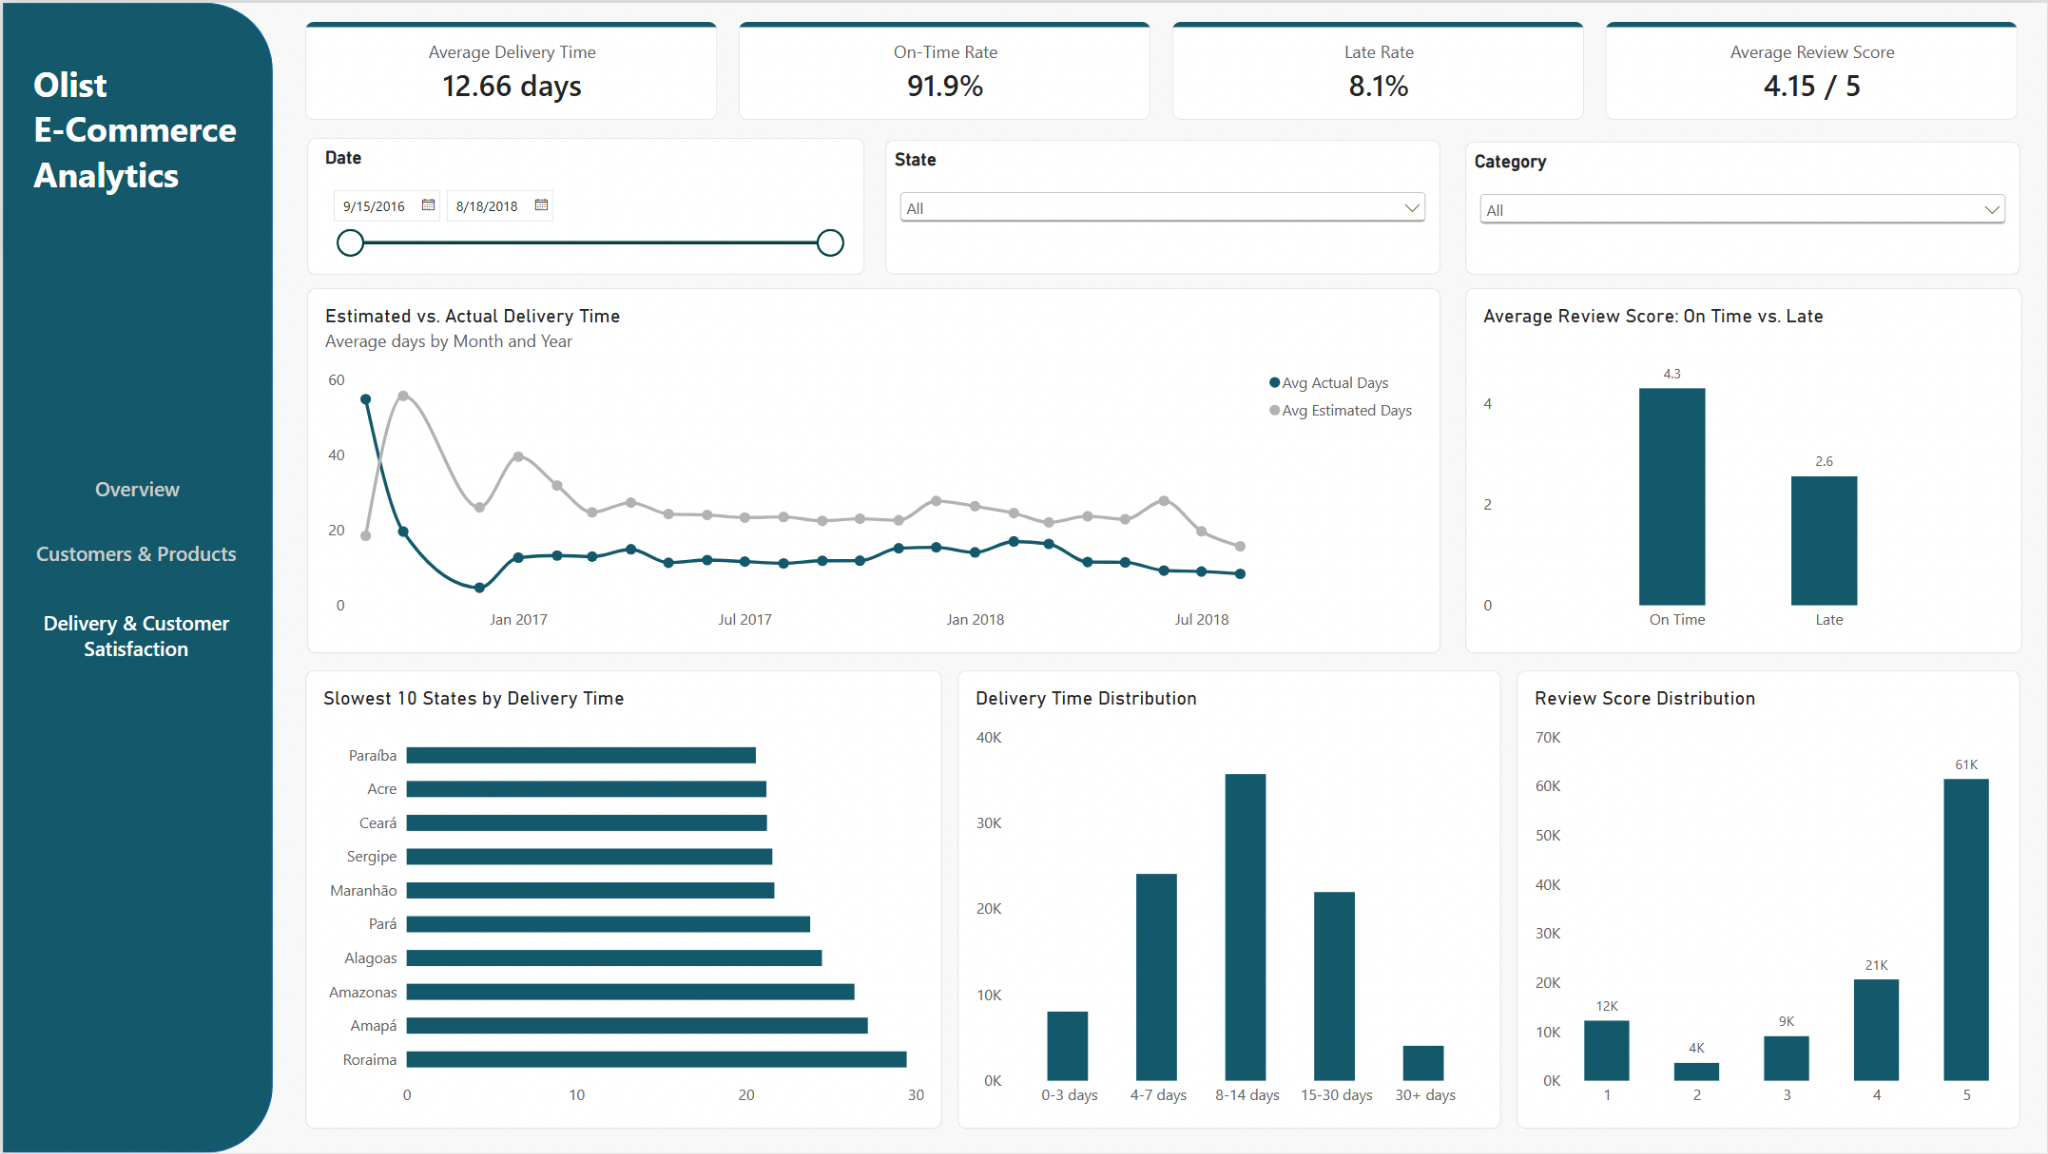

The page's visual inventory and layout, read from the dashboard file:
{"tool":"powerbi","page":{"name":"Delivery & Customer Satisfaction","canvas":[1920,1080],"ordinal":2},"visuals":[{"type":"clusteredColumnChart","title":"Average Review Score: On Time vs. Late","fields":{"Category":["public order_facts.Delivery Status"],"Y":["public order_facts.Average Review Score"]},"box":[1373.2,267.9,523.2,342.9],"z":0},{"type":"clusteredColumnChart","title":"Review Score Distribution","fields":{"Category":["public order_facts.review_score"],"Y":["CountNonNull(public order_facts.review_score)"]},"box":[1421.4,626.8,473.2,430.4],"z":1000},{"type":"clusteredBarChart","title":"Slowest 10 States by Delivery Time","fields":{"Category":["public state_geo.state_name"],"Y":["public order_facts.Average Delivery Time"]},"box":[283.9,626.8,598.2,430.4],"z":2000},{"type":"shape","box":[0,0,253.3,1080],"z":3000},{"type":"textbox","box":[28.3,53.3,196.7,135],"z":4000},{"type":"actionButton","title":"Sale Overview","box":[56.7,436.7,138.3,31.7],"z":5000},{"type":"actionButton","title":"Customers & Products","box":[16.7,493.3,218.3,48.3],"z":6000},{"type":"actionButton","title":"Delivery & Customer Satisfaction","box":[16.7,556.7,218.3,75],"z":7000},{"type":"lineChart","title":"Estimated vs. Actual Delivery Time","fields":{"Category":["public order_facts.order_purchase_timestamp.Variation.Date Hierarchy.Year","public order_facts.order_purchase_timestamp.Variation.Date Hierarchy.Month"],"Y":["public delivery_time_buckets.Avg Actual Days","public delivery_time_buckets.Avg Estimated Days"]},"box":[285.7,267.9,1064.3,342.9],"z":12000},{"type":"columnChart","title":"Delivery Time Distribution","fields":{"Category":["public delivery_time_buckets.delivery_bucket"],"Y":["public order_facts.Total Orders"]},"box":[896.4,626.8,510.7,430.4],"z":13000},{"type":"cardVisual","fields":{"Data":["public order_facts.Average Delivery Time","public delivery_time_buckets.On-Time Rate","public delivery_time_buckets.Late Rate","public order_facts.Average Review Score"]},"box":[283.9,17.9,1610.7,92.9],"z":13001},{"type":"slicer","title":"Category","fields":{"Values":["public order_facts.product_category_name_english"]},"box":[1373.3,129.6,521.7,125],"z":13002},{"type":"slicer","title":"Date","fields":{"Values":["public order_facts.order_purchase_timestamp"]},"box":[285.7,126.8,523.3,128.3],"z":13003},{"type":"slicer","title":"State","fields":{"Values":["public order_facts.state_name"]},"box":[828.3,128,521.7,126.7],"z":13004}]}

Visuals, with their boxes in screenshot pixels (x1, y1, x2, y2), scaled from the page's 1920x1080 canvas onto the 2048x1154 screenshot:
"Average Review Score: On Time vs. Late" clusteredColumnChart: (1465,286,2023,653)
"Review Score Distribution" clusteredColumnChart: (1516,670,2021,1130)
"Slowest 10 States by Delivery Time" clusteredBarChart: (303,670,941,1130)
shape: (0,0,270,1153)
textbox: (30,57,240,201)
"Sale Overview" actionButton: (60,467,208,500)
"Customers & Products" actionButton: (18,527,251,579)
"Delivery & Customer Satisfaction" actionButton: (18,595,251,675)
"Estimated vs. Actual Delivery Time" lineChart: (305,286,1440,653)
"Delivery Time Distribution" columnChart: (956,670,1501,1130)
cardVisual - public order_facts.Average Delivery Time x public delivery_time_buckets.On-Time Rate: (303,19,2021,118)
"Category" slicer: (1465,138,2021,272)
"Date" slicer: (305,135,863,273)
"State" slicer: (884,137,1440,272)
